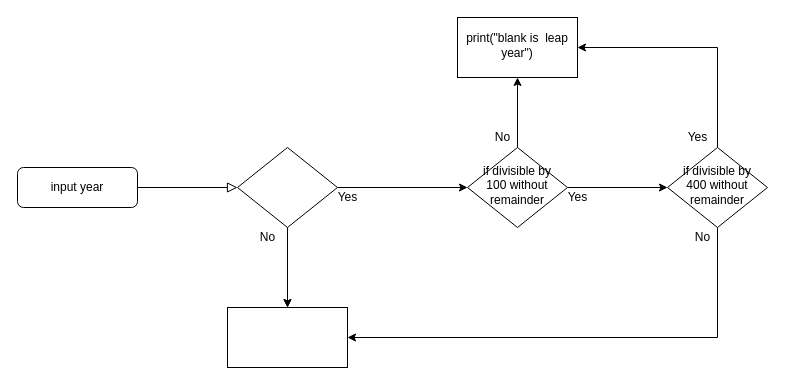
Some shapes in this 785 by 385 pixel diagram are drawn without their labels. Here are the shapes that lost their labels. From the top down, the centre of each, then its label:
pixel 287 187: check if divisible by 4 without remainder
pixel 287 337: print("Not a leap Year")
